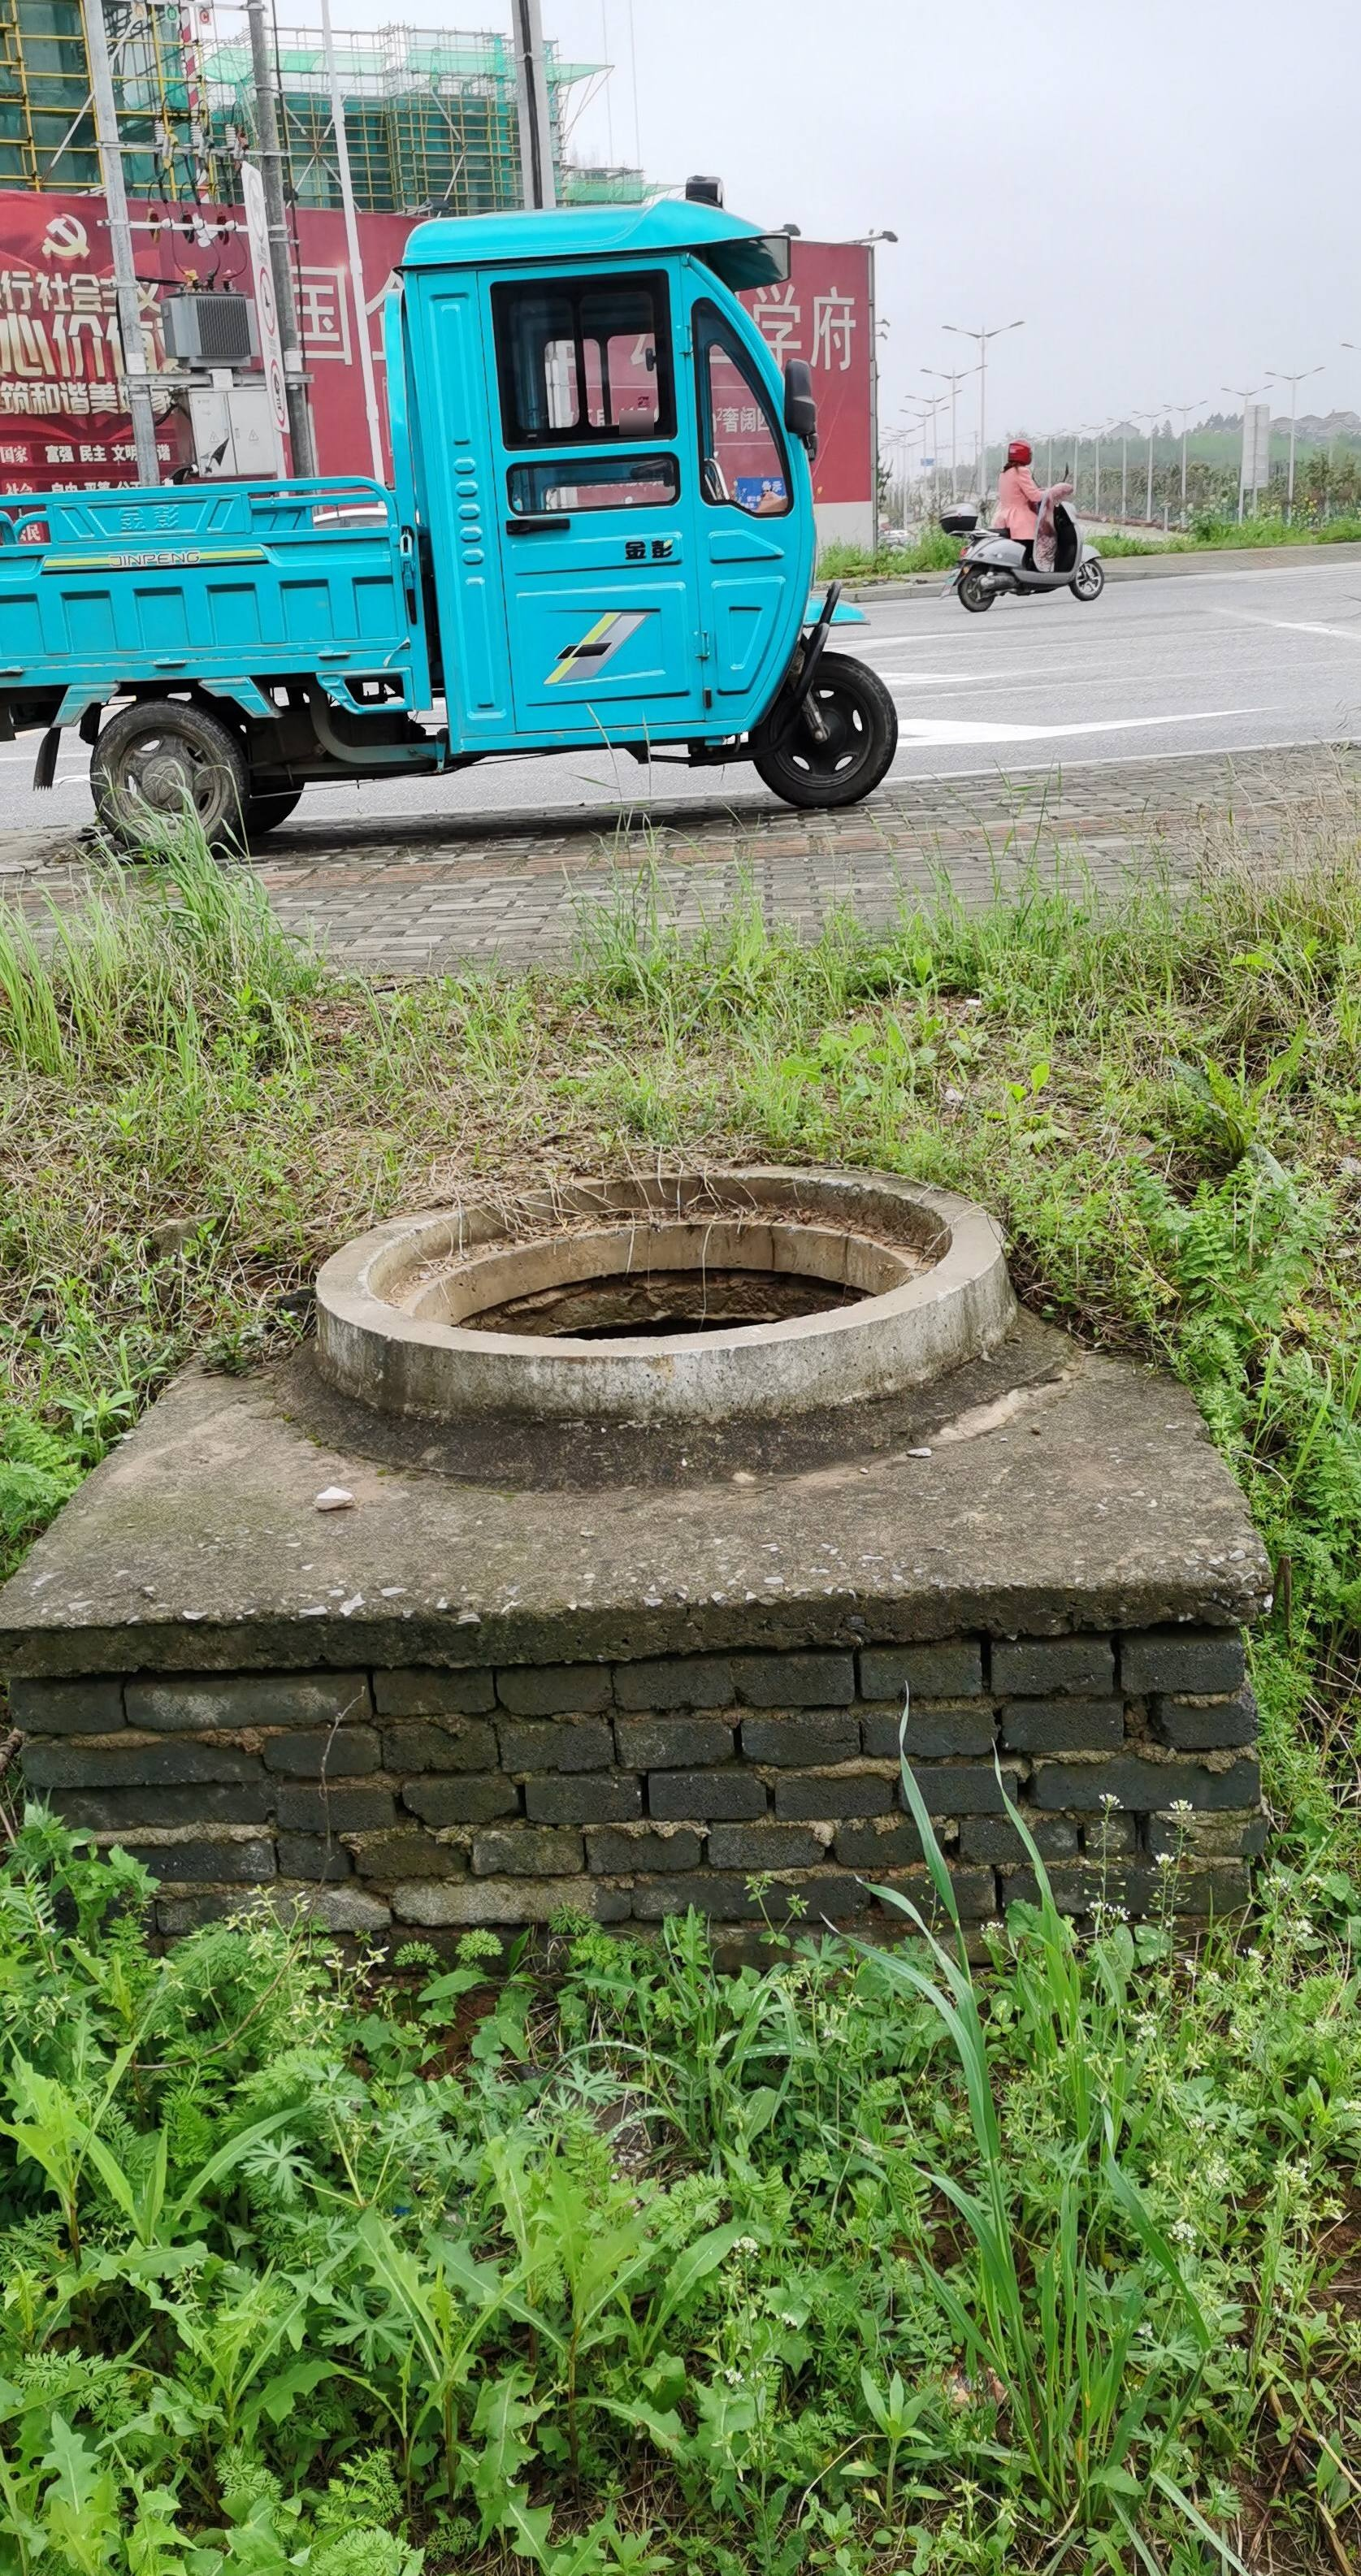lose: (327, 1145, 1012, 1421)
